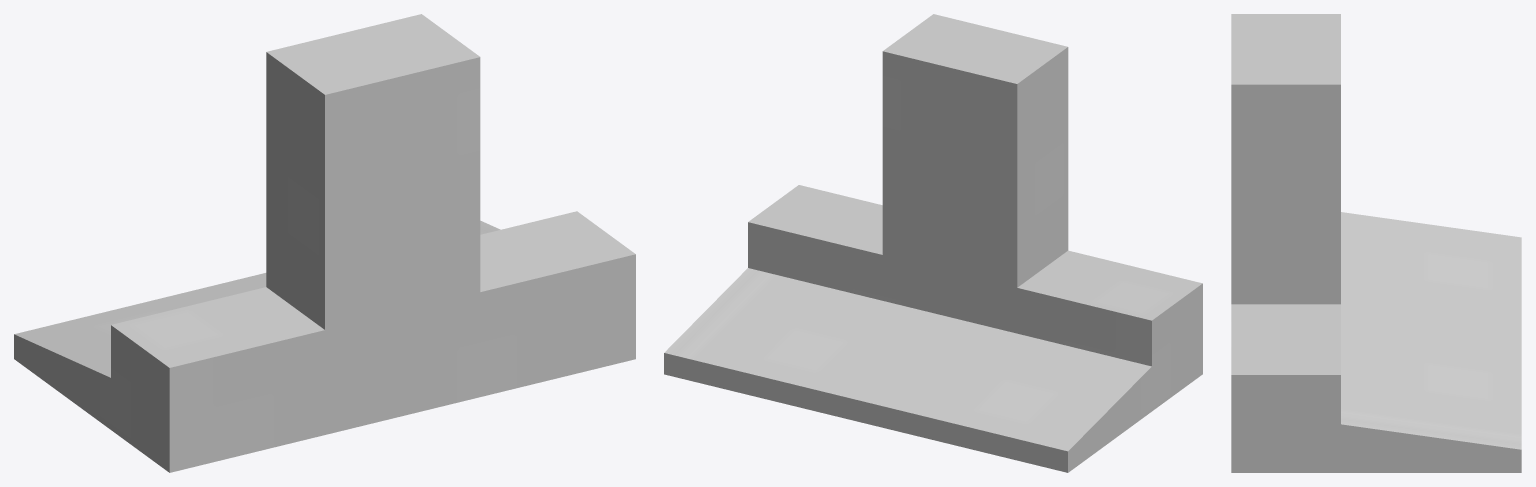
Rendered from KitchenExhaust04.glb.
The picture shows the model from 3 angles, left to right: view 1: azimuth 30°, elevation 25°; view 2: azimuth 150°, elevation 25°; view 3: azimuth 270°, elevation 25°; orthographic projection. The views are drawn at different scales.
Parts seen in each view (by area): view 1: KitchenExhaust04_model; view 2: KitchenExhaust04_model; view 3: KitchenExhaust04_model.
Part boxes in pixels (<box>): KitchenExhaust04_model: <box>14,14,635,472</box>; KitchenExhaust04_model: <box>664,14,1202,472</box>; KitchenExhaust04_model: <box>1231,14,1521,472</box>.
Bounding box in the file's own units: 1.46 × 1.02 × 0.8459.
Materials: 1 (1 with a texture image).
